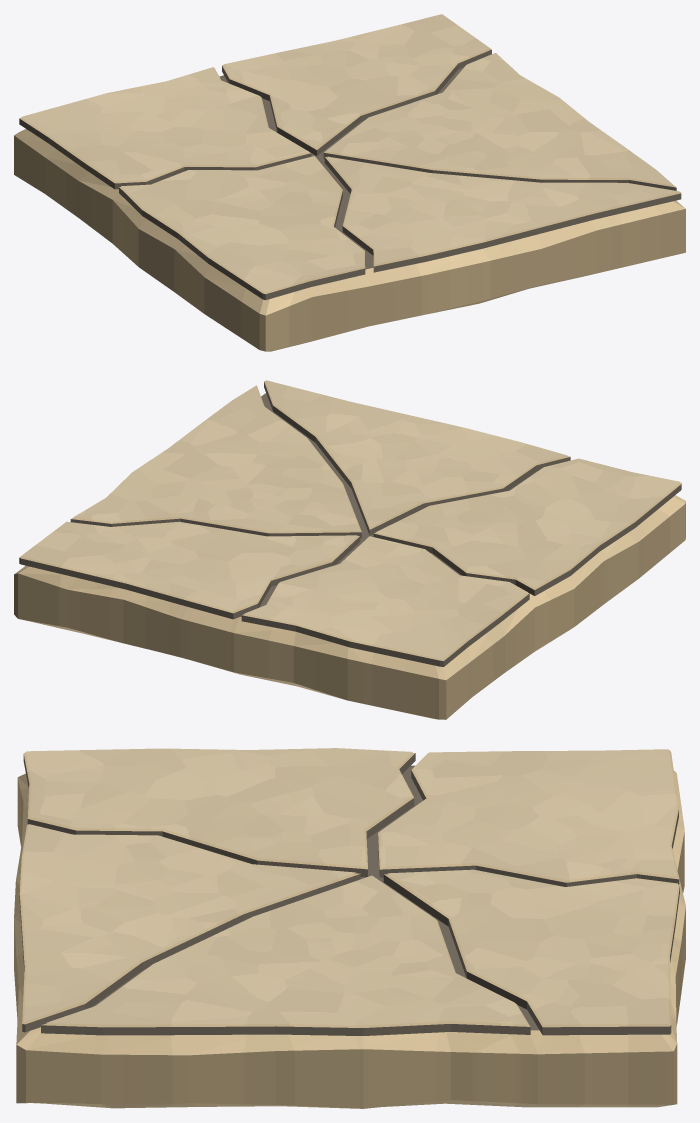
Rendered from tile_c_cracked.glb.
3 renders of one model, top to bottom at view 1: azimuth 30°, elevation 25°; view 2: azimuth 150°, elevation 25°; view 3: azimuth 270°, elevation 25°, orthographic. The views are drawn at different scales.
Parts seen in each view (by area): view 1: tile_c_cracked; view 2: tile_c_cracked; view 3: tile_c_cracked.
Part boxes in pixels (bbox=[...]): tile_c_cracked: bbox=[14, 14, 685, 351]; tile_c_cracked: bbox=[14, 380, 685, 719]; tile_c_cracked: bbox=[14, 748, 685, 1108].
Size of the model in its own units: 2.8 by 0.4 by 2.8.
Materials: 4 (3 with a texture image).
